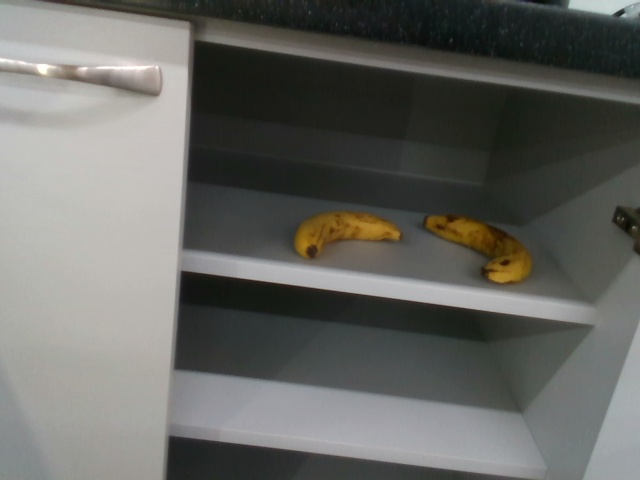banana: (420, 212, 533, 285), (293, 207, 401, 262)
